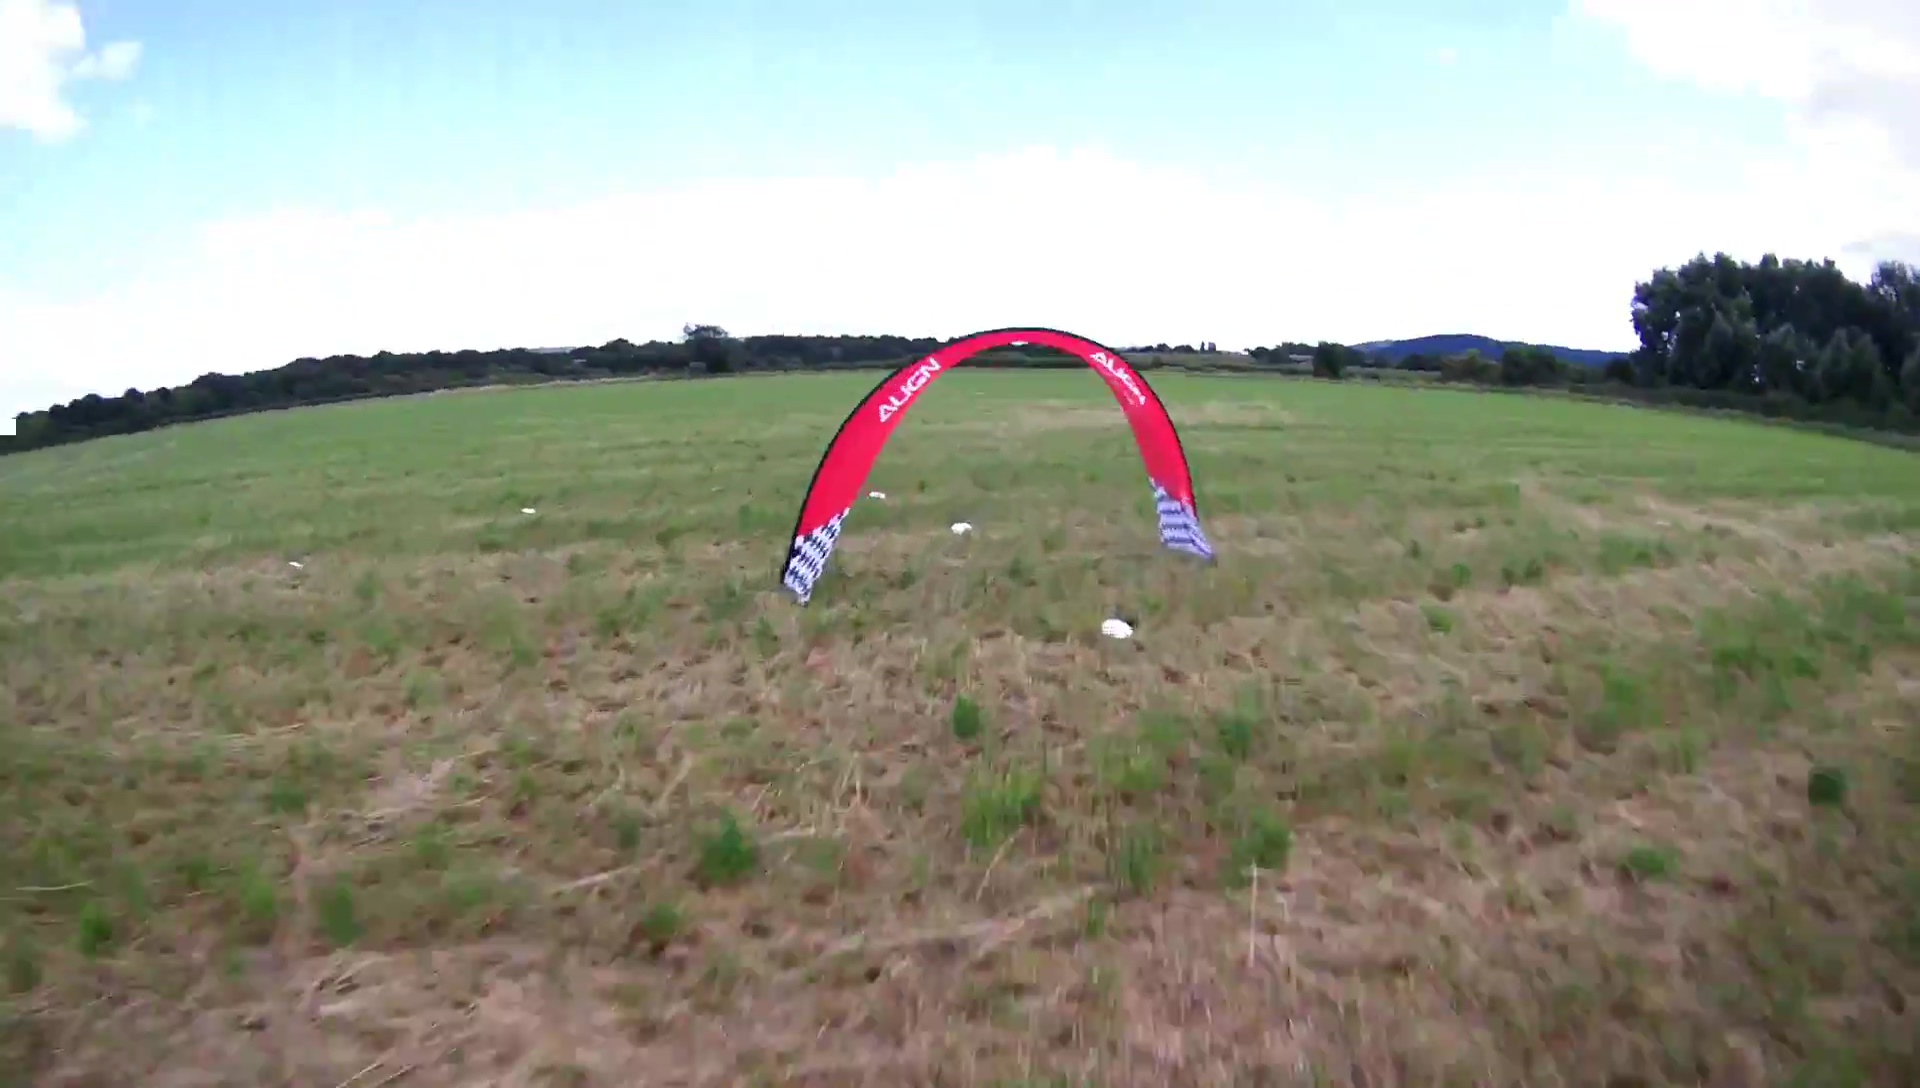gate: (781, 327, 1222, 604)
